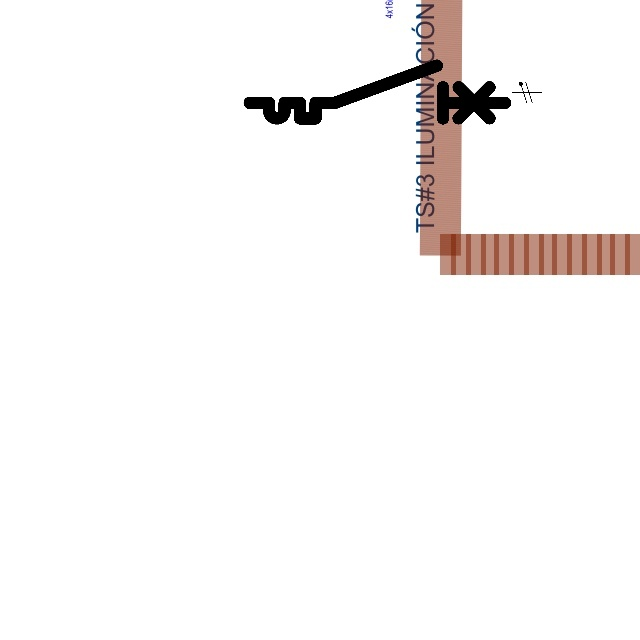interruptor_termomagnetico: (243, 59, 512, 125)
